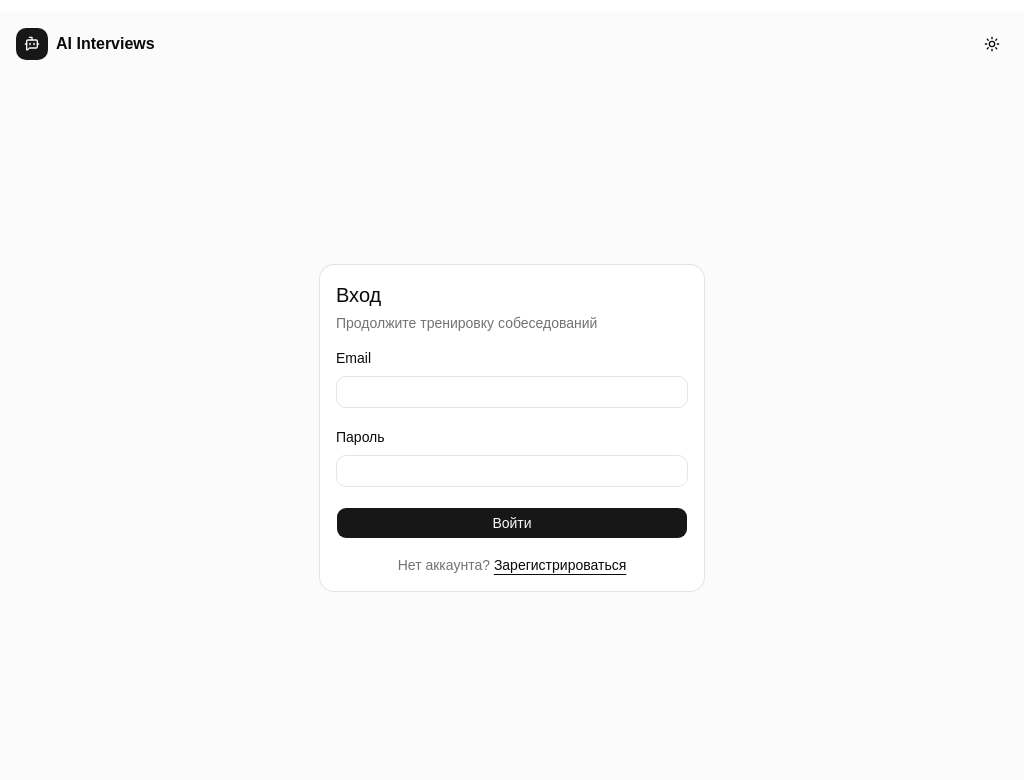
Test case: App › неавторизованного уводит на логин, после входа возвращает назад
Expected: the text "Вход" is shown, top-left (336, 284), bottom-right (381, 306)
In the field labelled "Email": [512, 392] box top-left (336, 376), bottom-right (688, 408), type "demo@ai-interviews.dev"
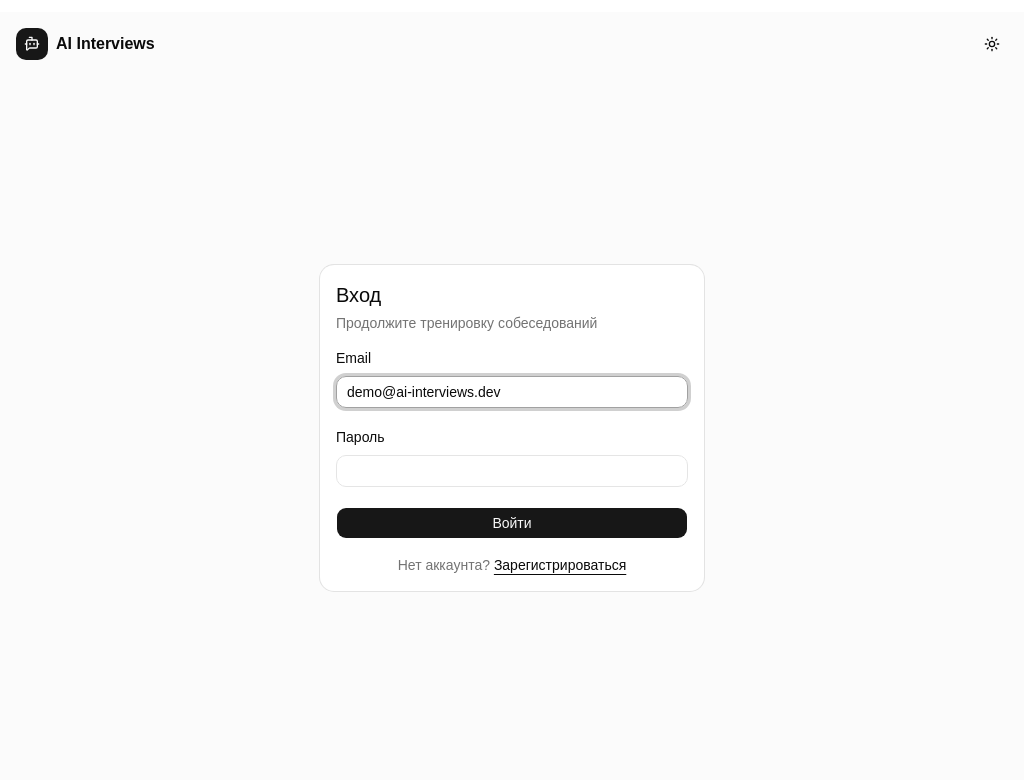
In the password field labelled "Пароль": [512, 471] box top-left (336, 455), bottom-right (688, 487), type "secret123"
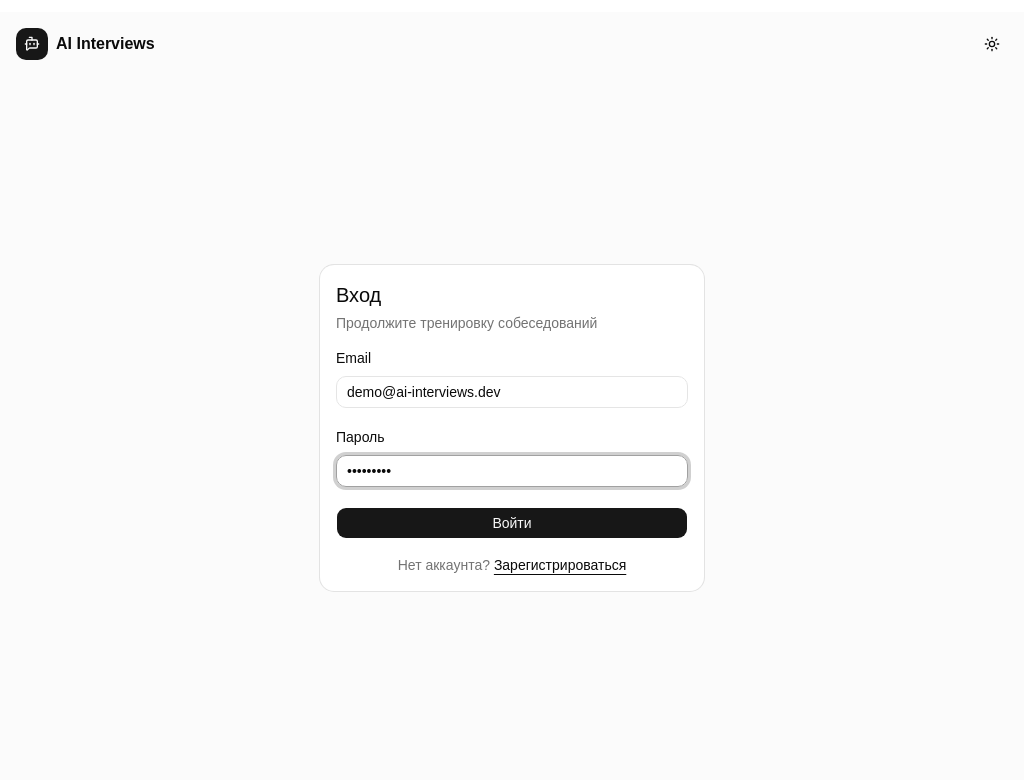
Click the button "Войти": [512, 523] box top-left (336, 507), bottom-right (688, 539)
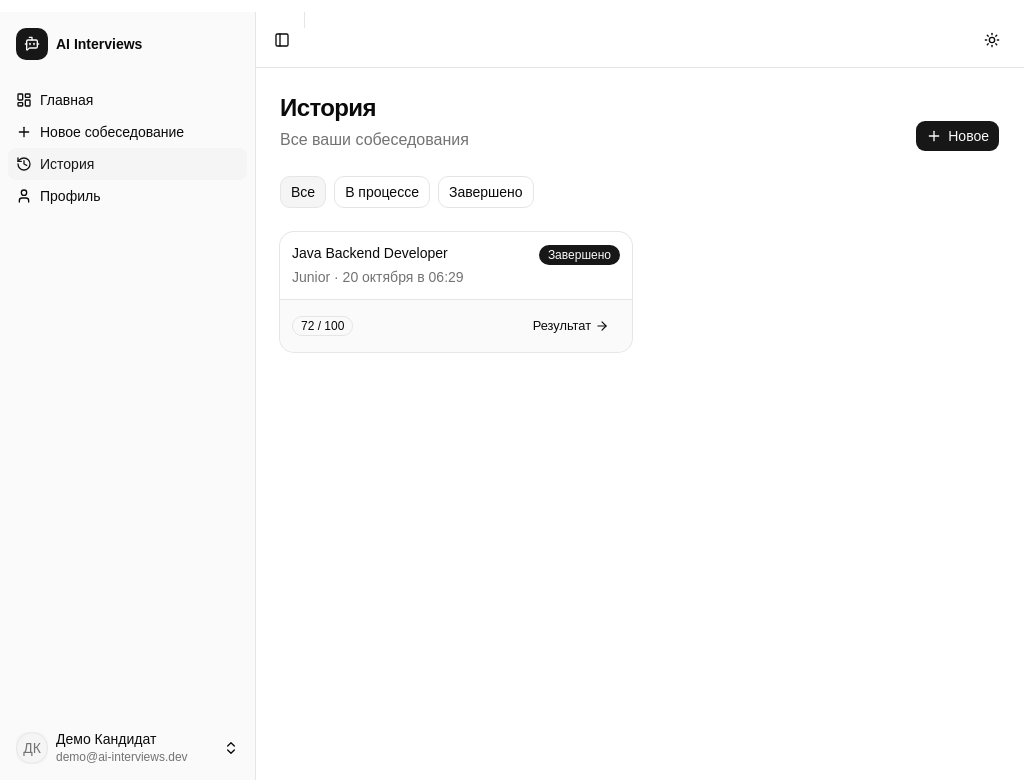
Expected: the heading "История" is shown, top-left (280, 94), bottom-right (376, 121)
Expected: the text "Java Backend Developer" is shown, top-left (292, 245), bottom-right (448, 261)
